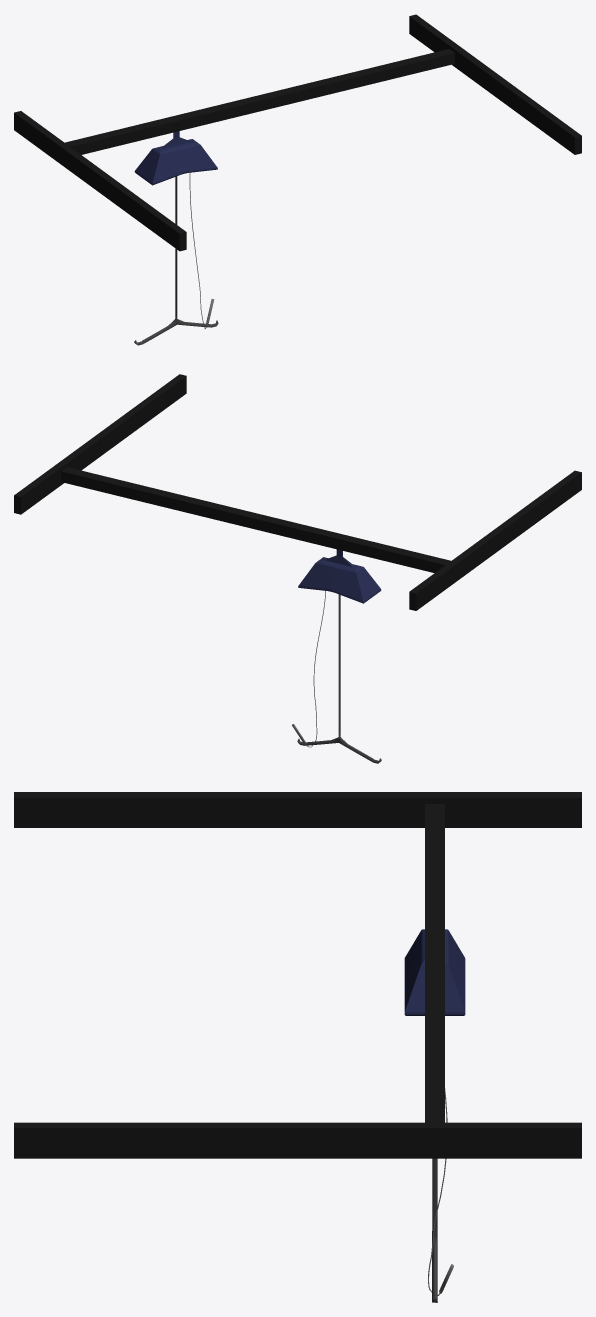
Rendered from Loft lift.obj.
3 views of the same model, one above another, from view 1: azimuth 30°, elevation 25°; view 2: azimuth 150°, elevation 25°; view 3: azimuth 270°, elevation 25° (orthographic). The views are drawn at different scales.
Parts seen in each view (by area): view 1: Lift_frame_Cube.002, Lift_Carier_Cube.001, Lift_rope_Cylinder; view 2: Lift_frame_Cube.002, Lift_Carier_Cube.001, Lift_rope_Cylinder; view 3: Lift_frame_Cube.002, Lift_Carier_Cube.001, Lift_rope_Cylinder.
Part boxes in pixels (x1=…): Lift_frame_Cube.002: x1=14, y1=14, x2=581, y2=251; Lift_Carier_Cube.001: x1=134, y1=131, x2=217, y2=185; Lift_rope_Cylinder: x1=134, y1=176, x2=218, y2=345; Lift_frame_Cube.002: x1=14, y1=374, x2=581, y2=610; Lift_Carier_Cube.001: x1=298, y1=549, x2=381, y2=603; Lift_rope_Cylinder: x1=297, y1=594, x2=381, y2=763; Lift_frame_Cube.002: x1=14, y1=792, x2=581, y2=1158; Lift_Carier_Cube.001: x1=404, y1=929, x2=465, y2=1015; Lift_rope_Cylinder: x1=432, y1=1158, x2=437, y2=1302.
Size of the model in its own units: 7.18 by 3.78 by 5.12.
